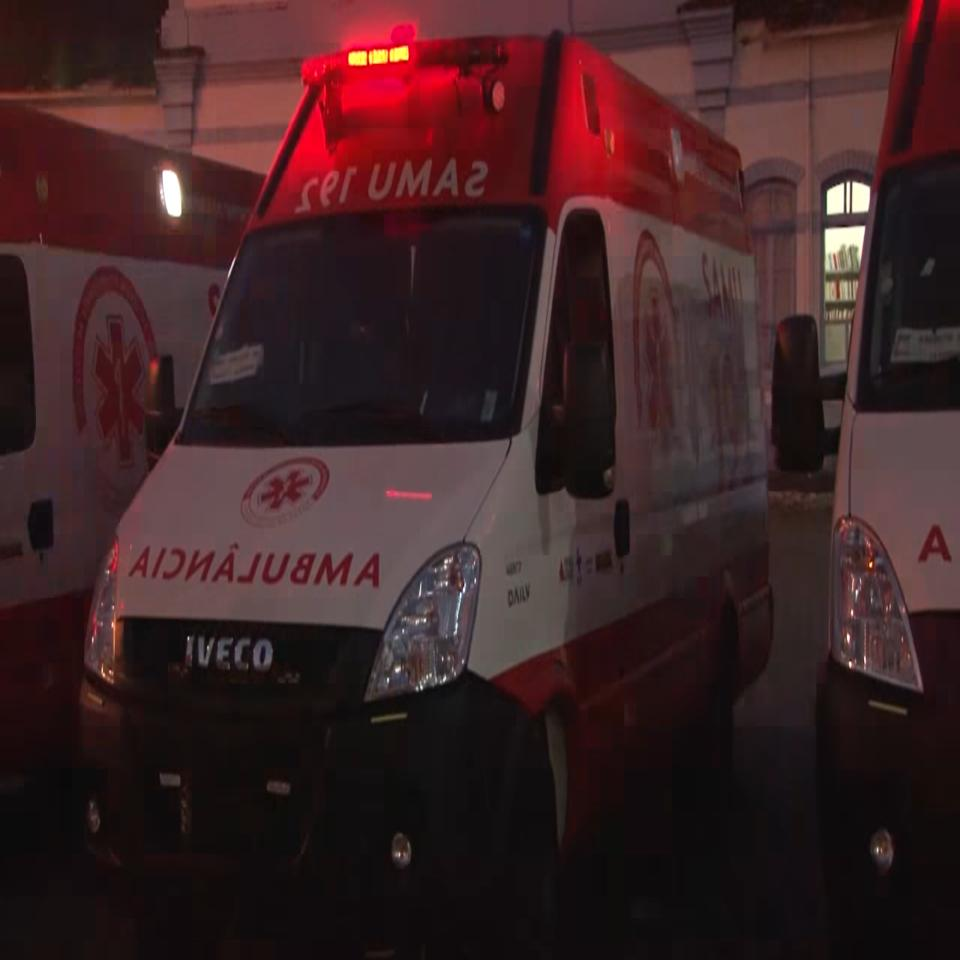bombeiro: (75, 20, 777, 960)
